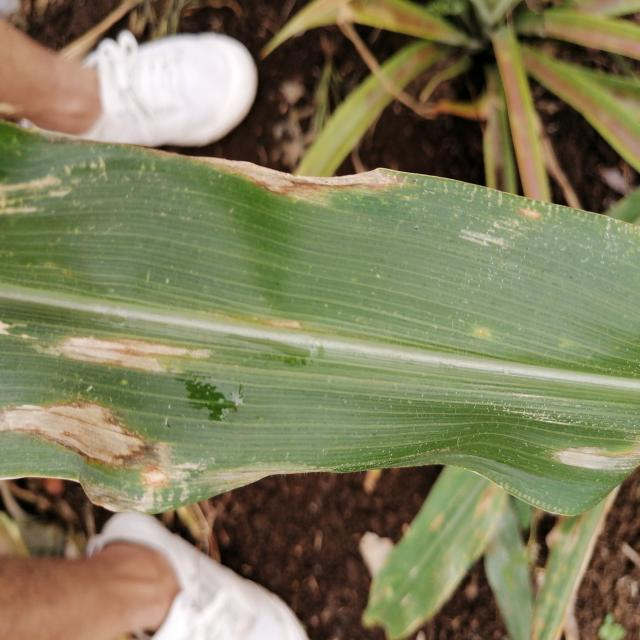Corn_Leaf_Blight: (0, 134, 640, 508)
